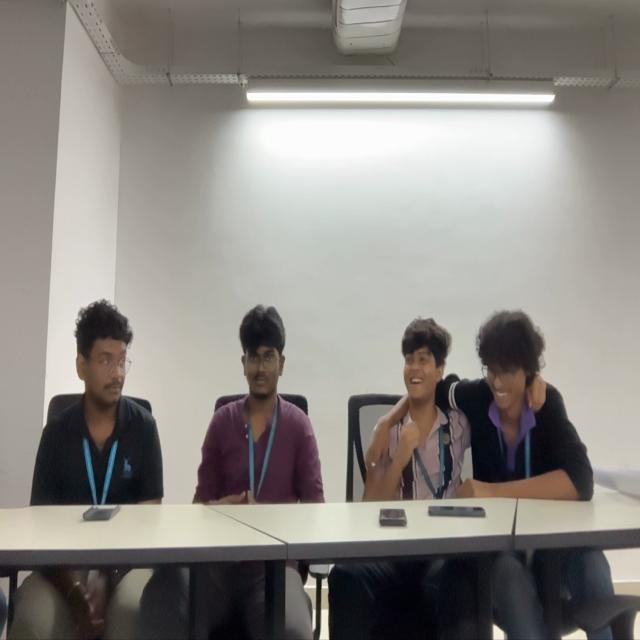Isolated: (194, 305, 324, 506), (33, 302, 163, 500)
socializing: (362, 312, 594, 498)
